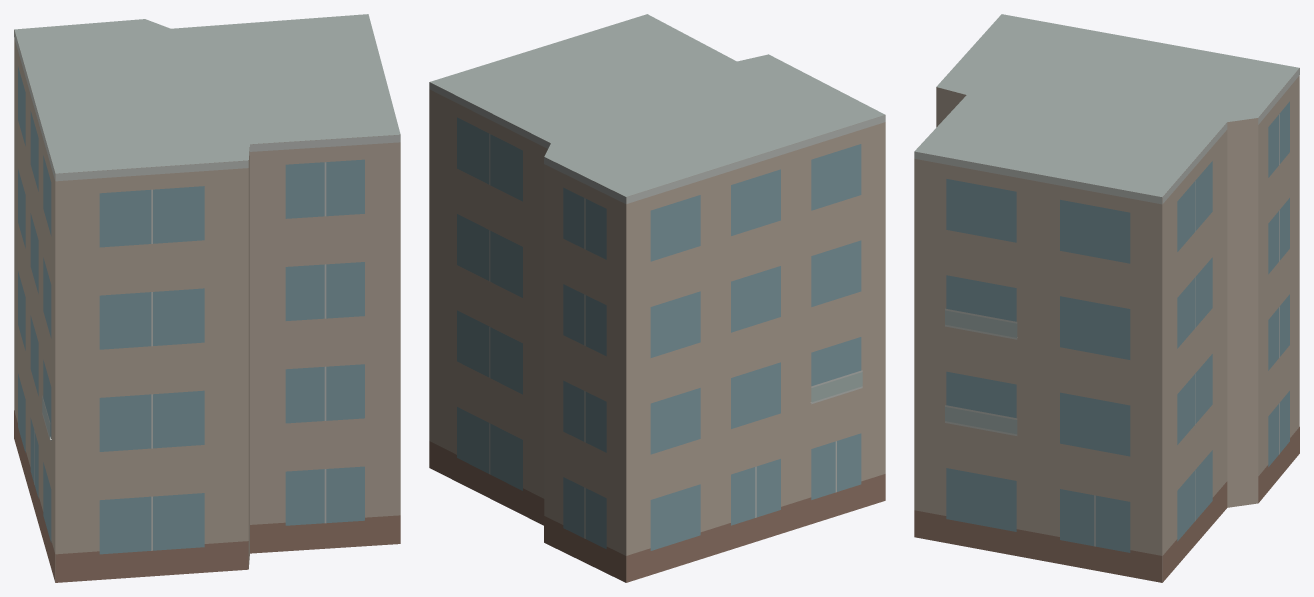
The model's file is survey-upis-32533246.glb.
3 renders of one model, left to right at view 1: azimuth 30°, elevation 25°; view 2: azimuth 150°, elevation 25°; view 3: azimuth 270°, elevation 25°, orthographic. The views are drawn at different scales.
Parts seen in each view (by area): view 1: survey-upis-32533246.tmp; view 2: survey-upis-32533246.tmp; view 3: survey-upis-32533246.tmp.
Part boxes in pixels (x1,y1,x2,y2): survey-upis-32533246.tmp: (14, 14, 400, 582); survey-upis-32533246.tmp: (429, 14, 885, 582); survey-upis-32533246.tmp: (914, 14, 1299, 582).
Bounding box in the file's own units: 13.25 × 13 × 11.78.
